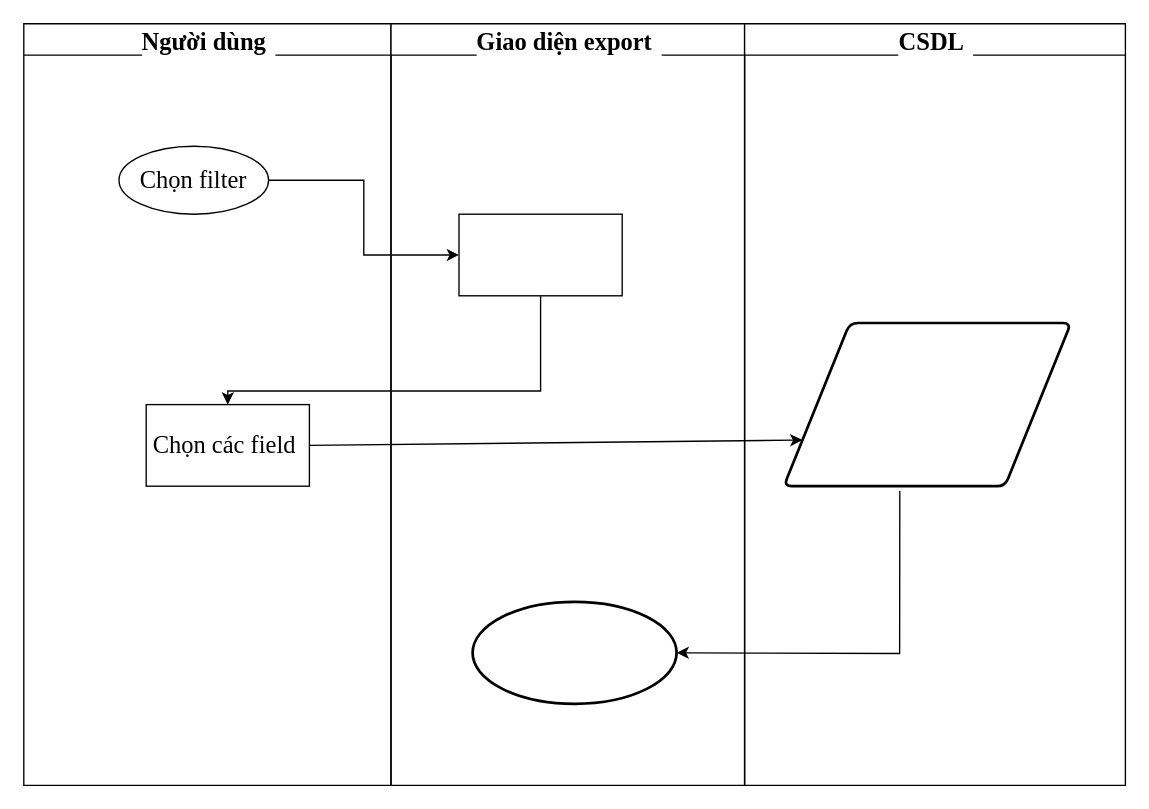
Image size: 1149x809. Some labels were removed from this diagram. The box of each missing label's shape, as (x1, y1, x2, y2) in pixels:
Form filter: (458, 213, 622, 296)
Hiển thị thông tin: (471, 600, 677, 704)
Kiểm tra CSDL & lấy thông tin: (782, 321, 1072, 487)
